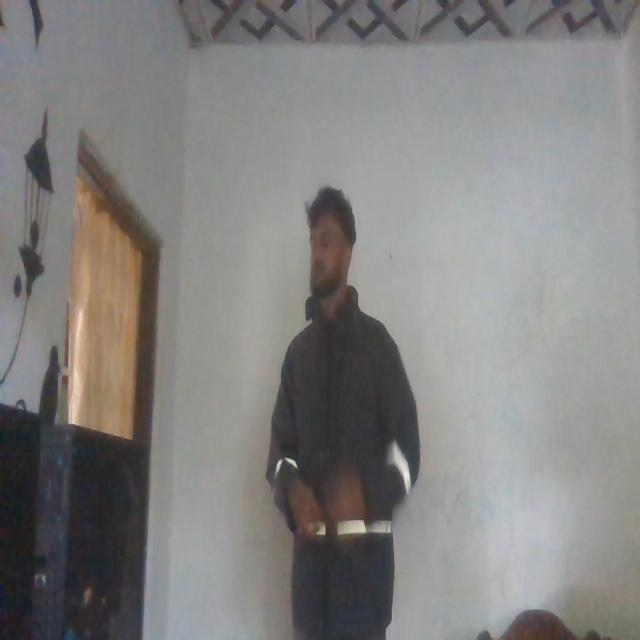Jacket_Wearer: (261, 303, 415, 640)
Person: (255, 194, 414, 640)
